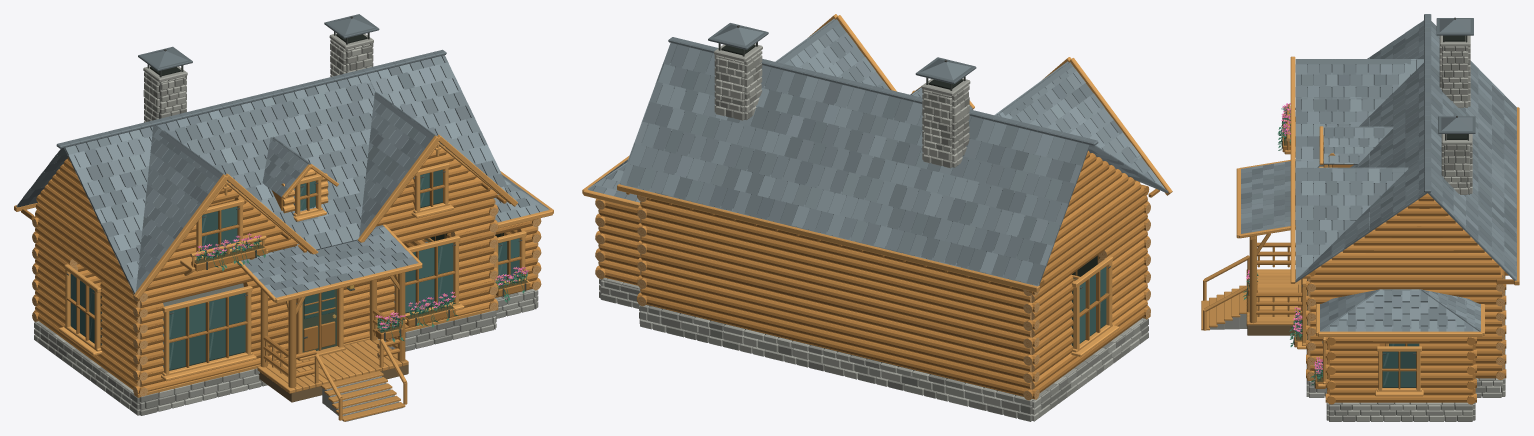
File: reference-log-cottage.glb
The picture shows the model from 3 angles, left to right: view 1: azimuth 30°, elevation 25°; view 2: azimuth 150°, elevation 25°; view 3: azimuth 270°, elevation 25°; orthographic projection. The views are drawn at different scales.
Parts seen in each view (by area): view 1: Honey-gold carved timber, Staggered slate shingles, Hand-laid natural stone, Window glass, Deep joinery and soil, CottageDoorLeaf, Flower foliage, Pink garden blossoms, Wood grain and end rings; view 2: Staggered slate shingles, Honey-gold carved timber, Hand-laid natural stone, Deep joinery and soil, Window glass, Wood grain and end rings; view 3: Staggered slate shingles, Honey-gold carved timber, Hand-laid natural stone, Deep joinery and soil, Window glass, Flower foliage, Pink garden blossoms.
Boxes of the visible parts, bbox=[...] form: Honey-gold carved timber: bbox=[14, 134, 553, 421]; Staggered slate shingles: bbox=[16, 14, 548, 297]; Hand-laid natural stone: bbox=[34, 33, 538, 421]; Window glass: bbox=[70, 169, 519, 369]; Deep joinery and soil: bbox=[71, 34, 533, 402]; CottageDoorLeaf: bbox=[302, 289, 336, 352]; Flower foliage: bbox=[196, 235, 527, 342]; Pink garden blossoms: bbox=[195, 233, 528, 329]; Wood grain and end rings: bbox=[32, 201, 539, 395]; Staggered slate shingles: bbox=[587, 18, 1168, 286]; Honey-gold carved timber: bbox=[582, 14, 1172, 400]; Hand-laid natural stone: bbox=[599, 44, 1148, 421]; Deep joinery and soil: bbox=[607, 44, 1105, 396]; Window glass: bbox=[1079, 266, 1106, 342]; Wood grain and end rings: bbox=[597, 196, 1150, 399]; Staggered slate shingles: bbox=[1241, 14, 1516, 331]; Honey-gold carved timber: bbox=[1201, 56, 1519, 404]; Hand-laid natural stone: bbox=[1209, 35, 1505, 421]; Deep joinery and soil: bbox=[1247, 35, 1495, 420]; Window glass: bbox=[1383, 343, 1419, 387]; Flower foliage: bbox=[1243, 105, 1322, 385]; Pink garden blossoms: bbox=[1246, 103, 1322, 373].
Bounding box in the file's own units: 24.99 × 15.51 × 16.83.
